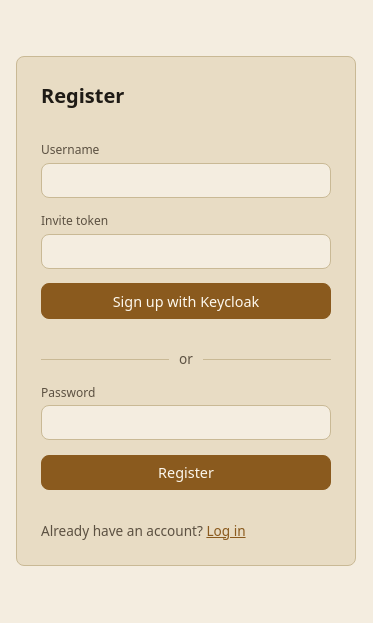
Test: RegisterPage with a provider › validates an empty invite itself and makes no request
The image size is (373, 623).
Type "ana" into the field labelled "Username".
click(186, 180); type("ana")  # box 41,163 -> 331,198
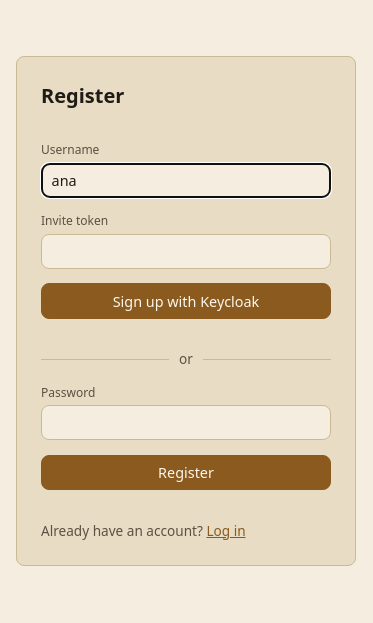
Click the button "Sign up with Keycloak".
click(186, 301)  # box 41,283 -> 331,319
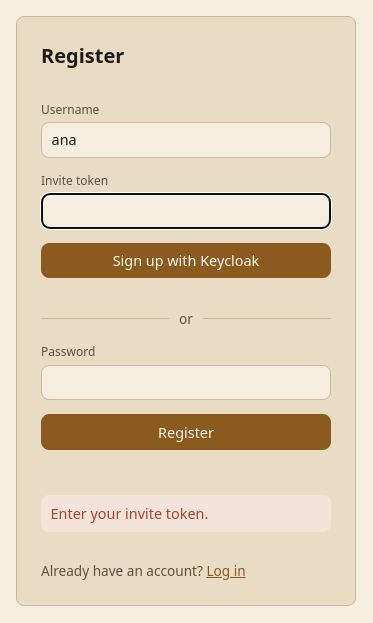
Check: the message shows "Enter your invite token", box 51,504 -> 208,523
